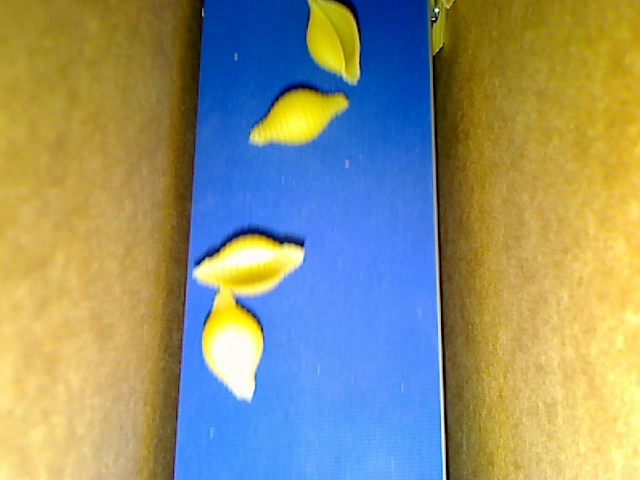penne: (425, 1, 452, 57)
shell: (189, 228, 310, 296), (198, 283, 264, 402), (245, 87, 347, 150), (305, 1, 367, 85)
